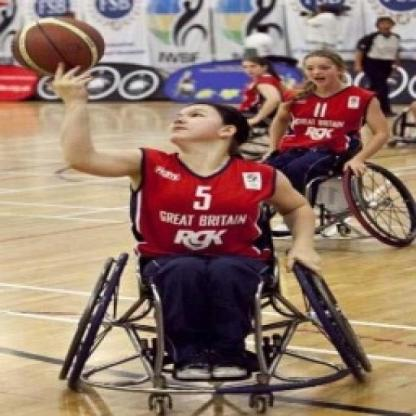basketball: (8, 11, 109, 79)
